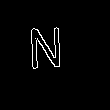N_S: (36, 29, 74, 81)
